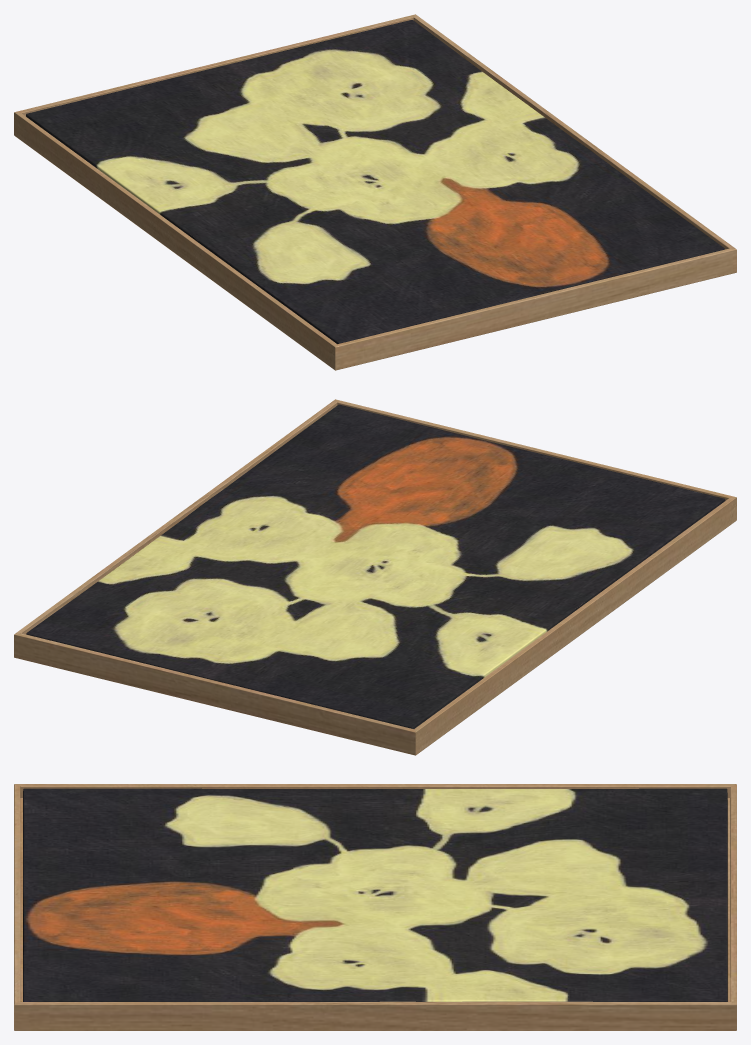
3 views of the same model, one above another, from view 1: azimuth 30°, elevation 25°; view 2: azimuth 150°, elevation 25°; view 3: azimuth 270°, elevation 25° (orthographic). The views are drawn at different scales.
Parts seen in each view (by area): view 1: ASY_ART_60623473_S01_NV01; view 2: ASY_ART_60623473_S01_NV01; view 3: ASY_ART_60623473_S01_NV01.
Part boxes in pixels (x1,y1,x2,y2): ASY_ART_60623473_S01_NV01: (14,14,736,370); ASY_ART_60623473_S01_NV01: (14,399,736,755); ASY_ART_60623473_S01_NV01: (14,784,736,1030).
Size of the model in its own units: 0.52 by 0.0295 by 0.7204.
1 material, 1 textured.
